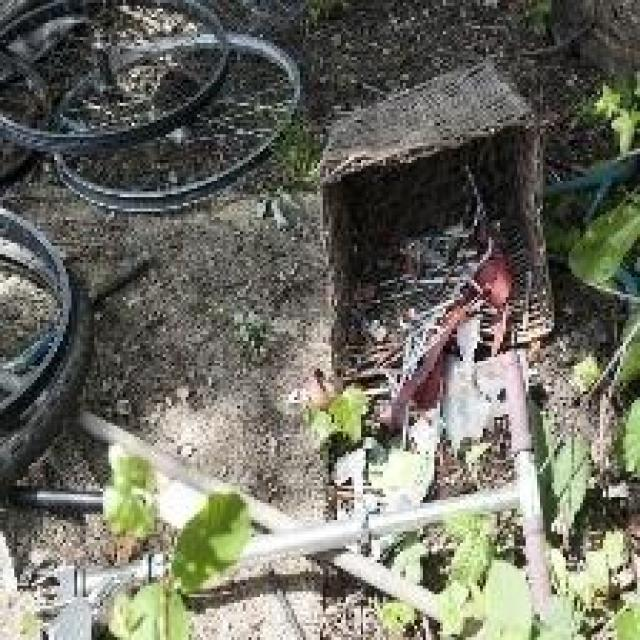syringe: (81, 453, 581, 625)
